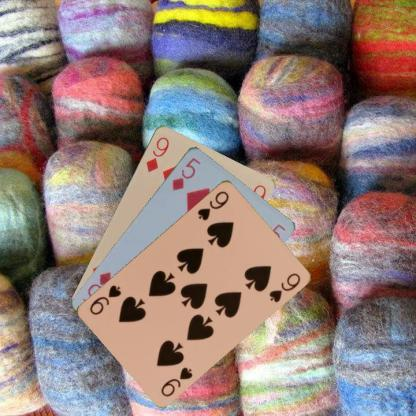5d: (170, 154, 202, 192)
9d: (142, 134, 170, 174)
9s: (194, 188, 230, 222), (158, 364, 194, 398)
